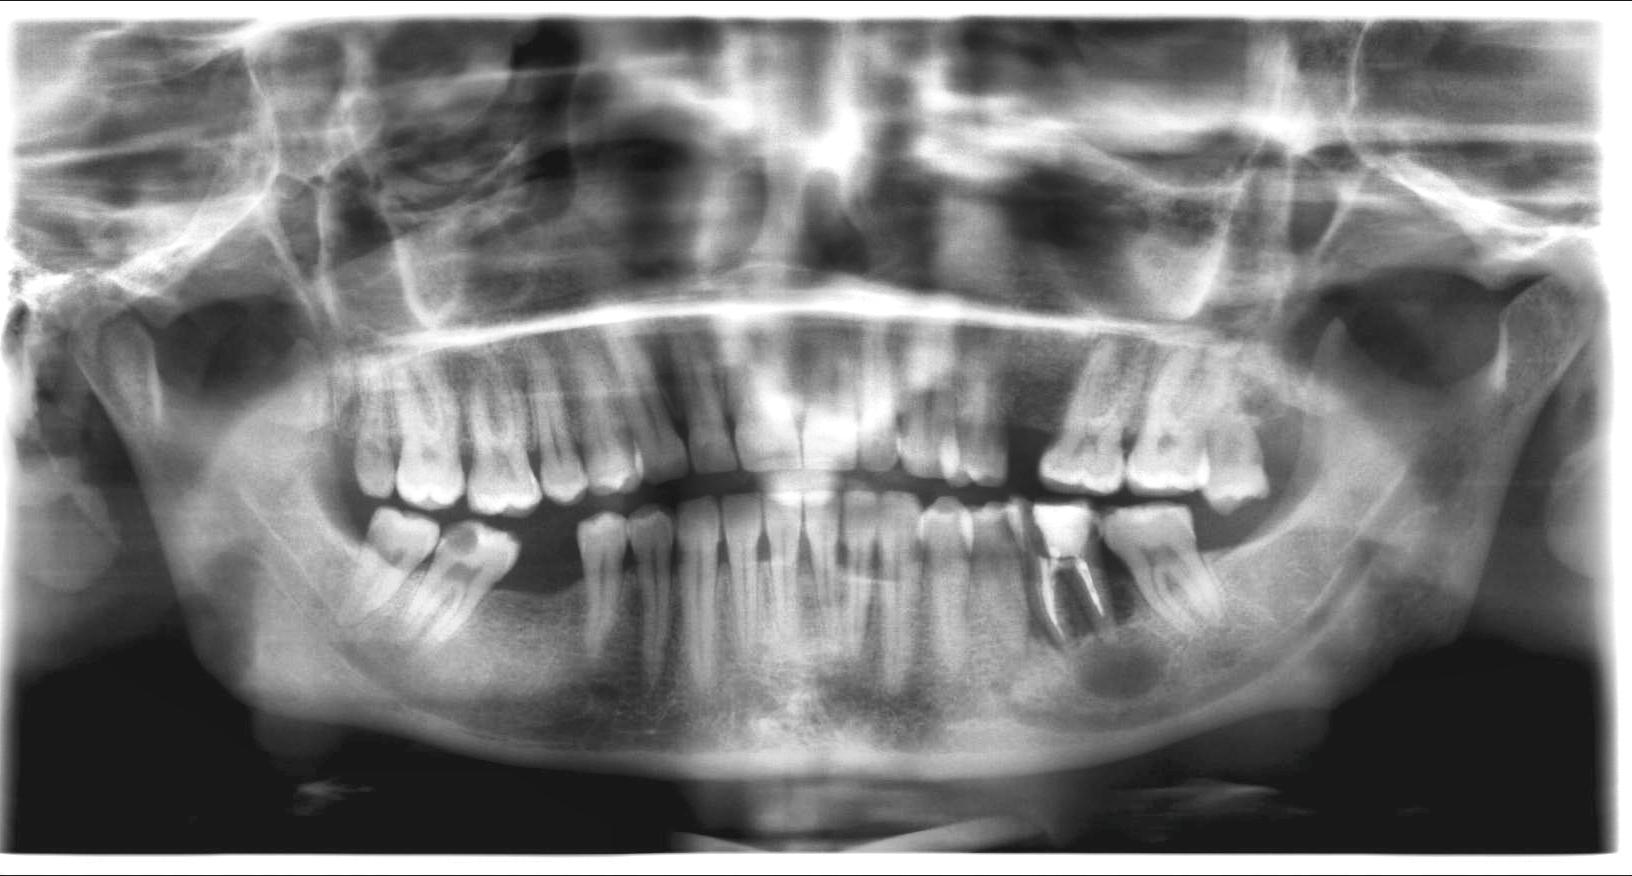radikuler: (1070, 626, 1172, 702)
